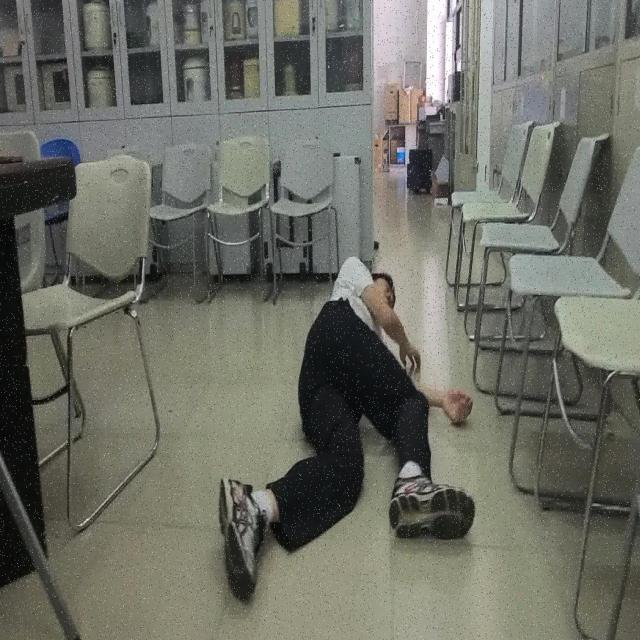fall: (217, 257, 472, 608)
